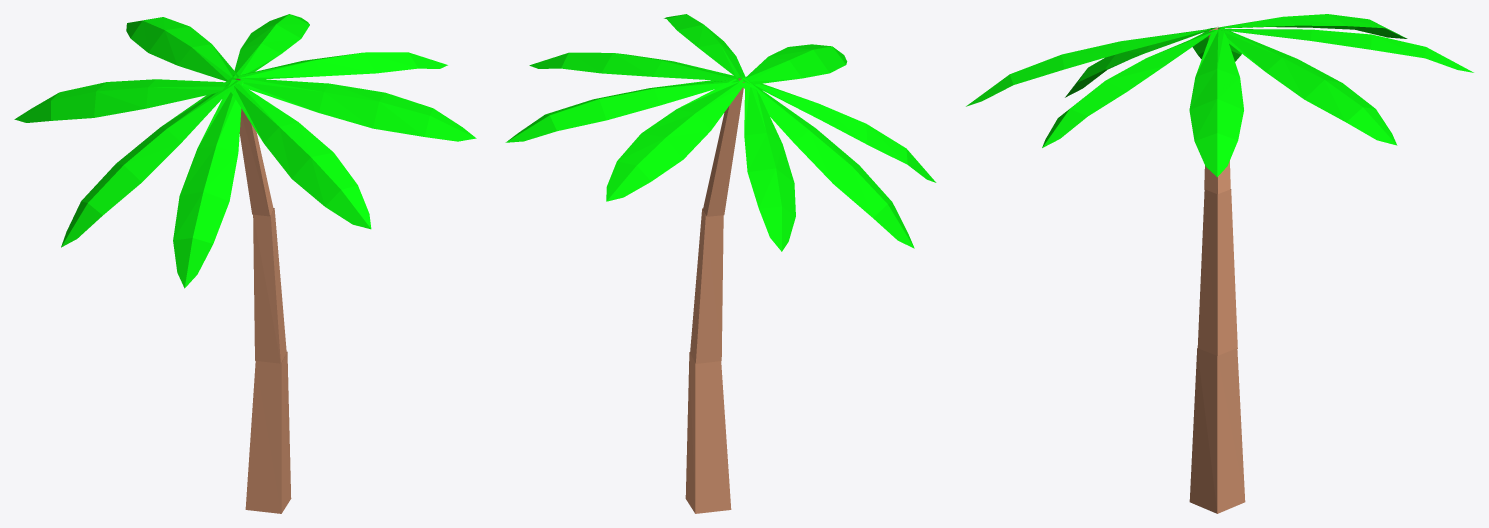
Rendered from palm.obj.
3 views of the same model, side by side, from view 1: azimuth 30°, elevation 25°; view 2: azimuth 150°, elevation 25°; view 3: azimuth 270°, elevation 25° (orthographic). The views are drawn at different scales.
Visible parts, largest first — view 1: Spline_Mesh_1_5, Spline_Mesh_1_3, Spline_Mesh_1_4, Cylinder_2_1, Spline_Mesh_1_2, Spline_Mesh_1_6, Cylinder_2, Spline_Mesh_1_1, Spline_Mesh_1, Spline_Mesh_1_7, Cylinder_2_2; view 2: Cylinder_2_1, Spline_Mesh_1_1, Spline_Mesh_1_6, Spline_Mesh_1_2, Cylinder_2, Spline_Mesh_1_7, Spline_Mesh_1, Spline_Mesh_1_5, Spline_Mesh_1_3, Cylinder_2_2, Spline_Mesh_1_4; view 3: Cylinder_2_1, Spline_Mesh_1, Cylinder_2, Spline_Mesh_1_7, Spline_Mesh_1_4, Spline_Mesh_1_1, Spline_Mesh_1_3, Spline_Mesh_1_6, Spline_Mesh_1_5, Cylinder_2_2.
Part boxes in pixels (box(x1,y1,x2,y2)): Spline_Mesh_1_5: box(173, 79, 243, 288); Spline_Mesh_1_3: box(229, 83, 371, 229); Spline_Mesh_1_4: box(241, 78, 476, 141); Cylinder_2_1: box(245, 351, 291, 513); Spline_Mesh_1_2: box(61, 77, 238, 247); Spline_Mesh_1_6: box(14, 79, 230, 122); Cylinder_2: box(253, 208, 286, 363); Spline_Mesh_1_1: box(126, 17, 238, 81); Spline_Mesh_1: box(236, 52, 447, 80); Spline_Mesh_1_7: box(232, 14, 309, 78); Cylinder_2_2: box(236, 78, 273, 216); Cylinder_2_1: box(685, 352, 731, 513); Spline_Mesh_1_1: box(606, 79, 742, 201); Spline_Mesh_1_6: box(744, 84, 795, 251); Spline_Mesh_1_2: box(738, 78, 914, 248); Cylinder_2: box(690, 208, 723, 363); Spline_Mesh_1_7: box(505, 77, 739, 142); Spline_Mesh_1: box(529, 52, 739, 81); Spline_Mesh_1_5: box(741, 76, 936, 182); Spline_Mesh_1_3: box(745, 44, 847, 84); Cylinder_2_2: box(703, 77, 744, 216); Spline_Mesh_1_4: box(664, 14, 745, 78); Cylinder_2_1: box(1189, 348, 1245, 513); Spline_Mesh_1: box(1189, 30, 1243, 177); Cylinder_2: box(1197, 189, 1237, 355); Spline_Mesh_1_7: box(1214, 28, 1397, 145); Spline_Mesh_1_4: box(1042, 30, 1215, 147); Spline_Mesh_1_1: box(1221, 29, 1473, 72); Spline_Mesh_1_3: box(966, 28, 1211, 106); Spline_Mesh_1_6: box(1214, 14, 1407, 38); Spline_Mesh_1_5: box(1065, 27, 1216, 97); Cylinder_2_2: box(1204, 27, 1230, 194).
Size of what is drawn, in the model's own units: 1.7 by 1.82 by 1.83.
